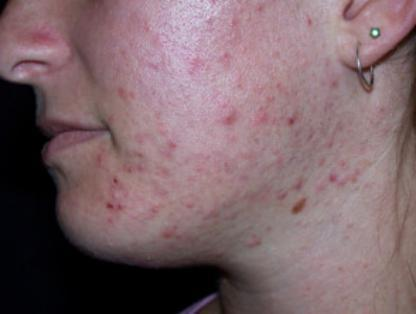Blackheads: (278, 108, 303, 133), (108, 171, 125, 189), (101, 194, 116, 214), (113, 201, 128, 213)
Papules: (215, 103, 247, 130), (286, 172, 308, 193)
